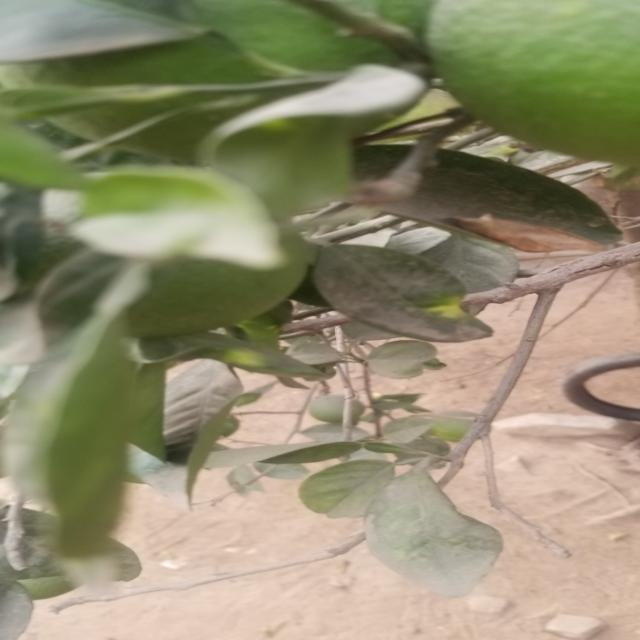agrume: (418, 0, 640, 168)
